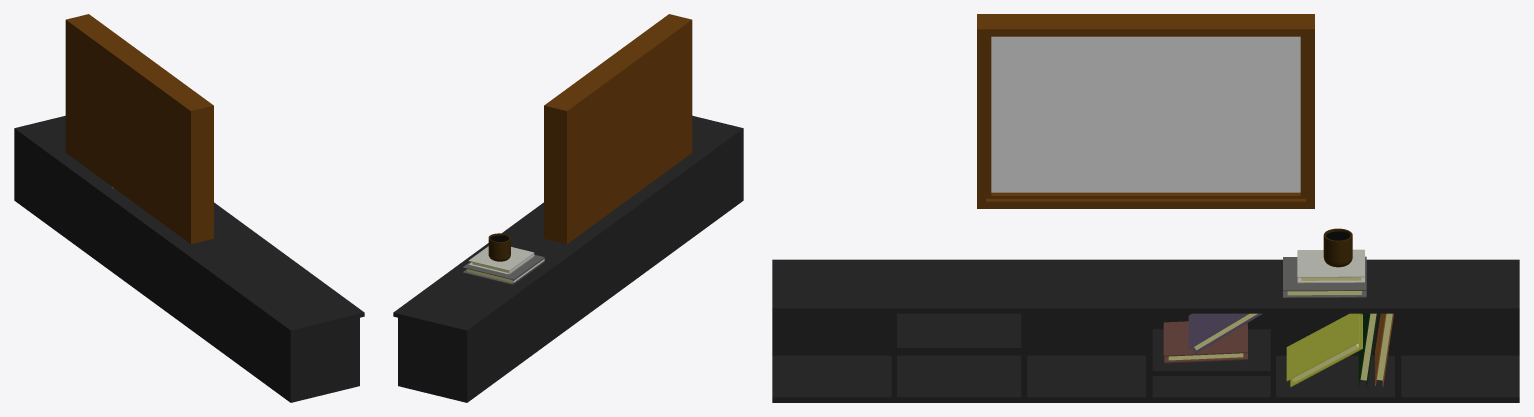
File: entrada mueble (2).fbx
3 views of the same model, side by side, from view 1: azimuth 30°, elevation 25°; view 2: azimuth 150°, elevation 25°; view 3: azimuth 270°, elevation 25° (orthographic). The views are drawn at different scales.
Parts seen in each view (by area): view 1: Cube, Cube.004; view 2: Cube, Cube.004, Cube.006, Cube.005, Cylinder; view 3: Cube, Cube.004, Cube.003, Cube.007, Cube.006, Cube.008, Cube.005, Cylinder, Cube.001, Cube.002.
Boxes of the visible parts, x1=… form: Cube: x1=14, y1=115, x2=364, y2=402; Cube.004: x1=65, y1=14, x2=213, y2=243; Cube: x1=393, y1=115, x2=743, y2=402; Cube.004: x1=544, y1=14, x2=692, y2=243; Cube.006: x1=468, y1=246, x2=534, y2=274; Cube.005: x1=463, y1=254, x2=544, y2=284; Cylinder: x1=488, y1=233, x2=510, y2=261; Cube: x1=772, y1=259, x2=1519, y2=402; Cube.004: x1=977, y1=14, x2=1314, y2=208; Cube.003: x1=1286, y1=313, x2=1362, y2=386; Cube.007: x1=1163, y1=321, x2=1247, y2=363; Cube.006: x1=1297, y1=249, x2=1364, y2=283; Cube.008: x1=1188, y1=313, x2=1262, y2=354; Cube.005: x1=1283, y1=256, x2=1366, y2=297; Cylinder: x1=1323, y1=228, x2=1352, y2=267; Cube.001: x1=1375, y1=313, x2=1393, y2=386; Cube.002: x1=1358, y1=313, x2=1377, y2=386.
Size of the model in its own units: 284 by 669 by 1385.
